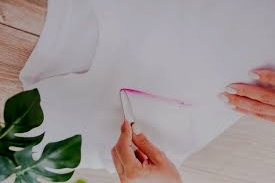lipstick: (118, 85, 193, 100)
